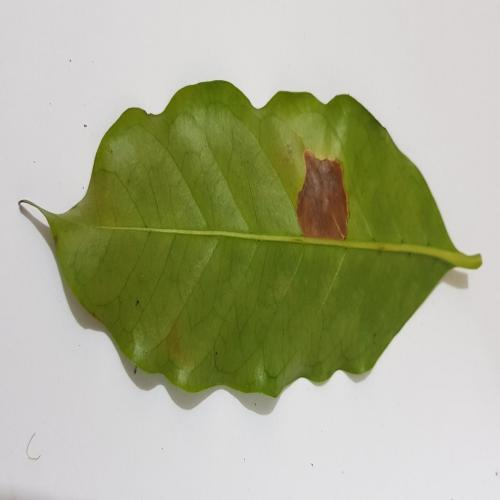leaf: (296, 150, 348, 239)
